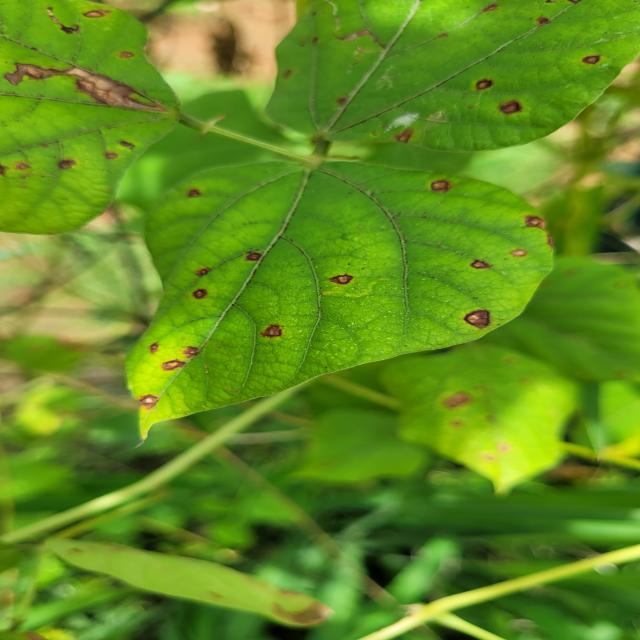Dolicos bean_cercospora leaf spot: (128, 157, 549, 434), (266, 0, 640, 147), (0, 0, 189, 230), (368, 340, 580, 496)
